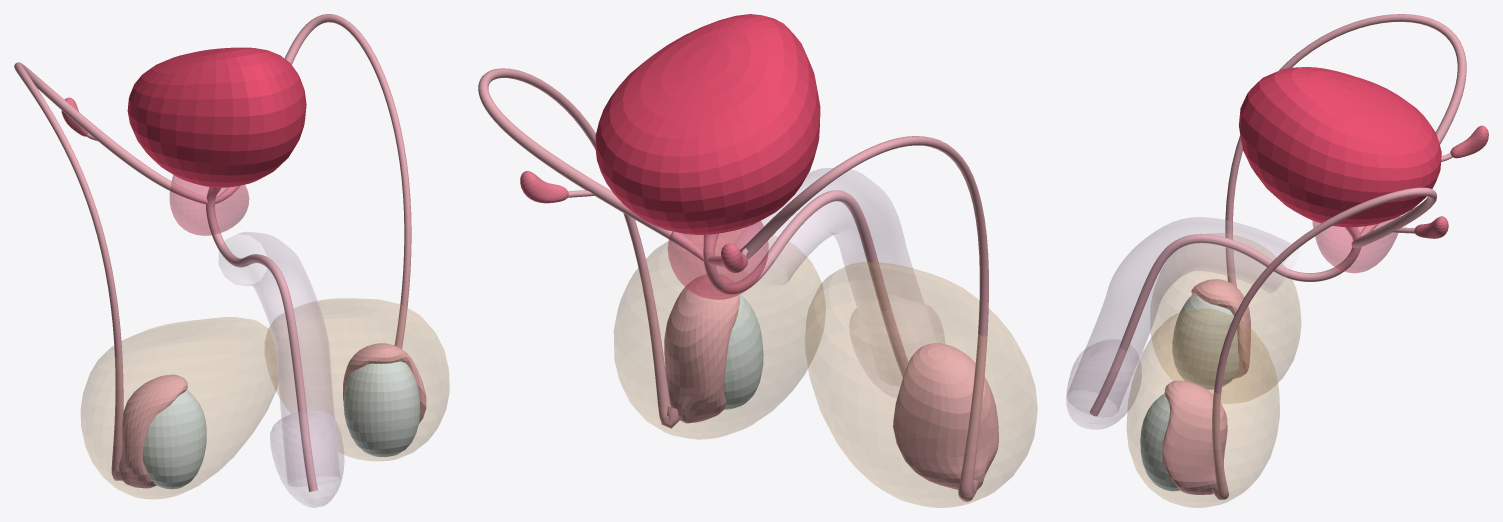
The model's file is ARM3.glb.
3 views of the same model, side by side, from view 1: azimuth 30°, elevation 25°; view 2: azimuth 150°, elevation 25°; view 3: azimuth 270°, elevation 25° (orthographic). The views are drawn at different scales.
Visible parts, largest first — view 1: Sphere.005, Sphere, Vejiga, NurbsPath.004, Testiculo 1, TT2, Testiculo 1.002, Testiculo 1.001, NurbsPath, Sphere.002, Prostata, NurbsPath.002 (+1 smaller); view 2: Sphere.005, Vejiga, Sphere, NurbsPath.004, Sphere.002, Sphere.004, NurbsPath, TT2, Prostata, NurbsPath.002, Testiculo 1, Testiculo 1.002 (+1 smaller); view 3: Vejiga, Sphere, NurbsPath.004, Sphere.005, Sphere.004, Testiculo 1.002, NurbsPath, Testiculo 1.001, TT2, NurbsPath.002, Prostata, Testiculo 1 (+3 smaller).
Part boxes in pixels (x1,y1,x2,y2): Sphere.005: (81,317,281,498); Sphere: (265,298,449,460); Vejiga: (127,47,306,187); NurbsPath.004: (219,232,340,486); Testiculo 1: (343,361,420,456); TT2: (14,62,207,480); Testiculo 1.002: (270,410,344,507); Testiculo 1.001: (143,390,206,489); NurbsPath: (215,14,411,348); Sphere.002: (118,374,187,488); Prostata: (169,175,249,235); NurbsPath.002: (206,187,317,491); Sphere.005: (805,262,1037,507); Vejiga: (595,14,820,234); Sphere: (614,229,825,439); NurbsPath.004: (734,168,923,316); Sphere.002: (893,343,998,489); Sphere.004: (664,274,739,423); NurbsPath: (478,68,703,428); TT2: (707,136,988,501); Prostata: (667,221,768,299); NurbsPath.002: (703,190,908,376); Testiculo 1: (723,293,763,409); Testiculo 1.002: (849,304,944,398); Vejiga: (1239,67,1441,227); Sphere: (1127,308,1279,507); NurbsPath.004: (1067,217,1299,416); Sphere.005: (1150,233,1301,403); Sphere.004: (1162,380,1227,494); Testiculo 1.002: (1066,339,1141,429); NurbsPath: (1212,187,1437,499); Testiculo 1.001: (1172,294,1239,389); TT2: (1225,14,1466,287); NurbsPath.002: (1090,227,1361,416); Prostata: (1312,216,1399,273); Testiculo 1: (1140,393,1179,491).
Bounding box in the file's own units: 4.5 × 4.73 × 4.69.
